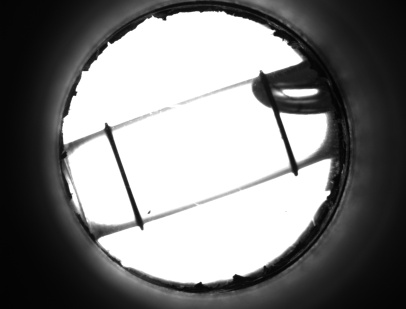line: (106, 144, 140, 207), (272, 121, 297, 155)
